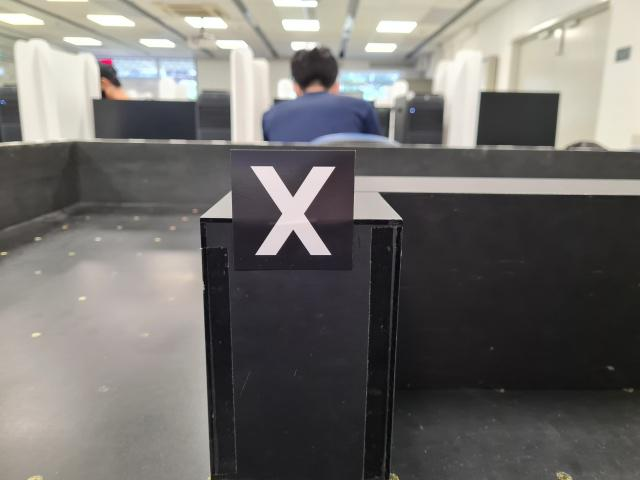x: (228, 150, 357, 271)
